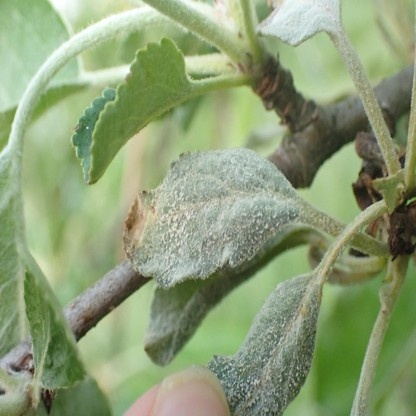powdery_mildew: (121, 150, 298, 286), (70, 37, 191, 181), (208, 277, 322, 416), (0, 6, 65, 112), (143, 283, 205, 366), (256, 0, 343, 45)
